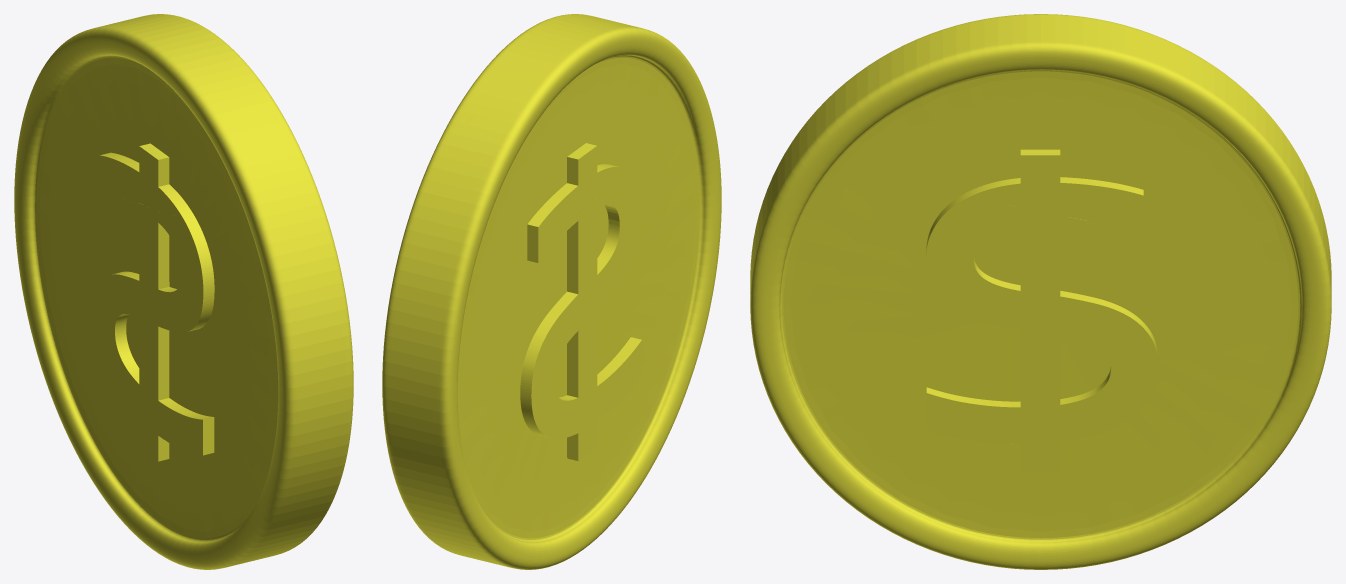
File: Coin_v2.fbx
3 views of the same model, side by side, from view 1: azimuth 30°, elevation 25°; view 2: azimuth 150°, elevation 25°; view 3: azimuth 270°, elevation 25° (orthographic). The views are drawn at different scales.
Parts seen in each view (by area): view 1: Cylinder, Text.001; view 2: Cylinder, Text.001; view 3: Cylinder, Text.001.
Boxes of the visible parts, x1,y1,x2,y2 form: Cylinder: (14,14,353,569); Text.001: (92,143,214,461); Cylinder: (382,14,721,569); Text.001: (520,143,642,460); Cylinder: (750,14,1331,569); Text.001: (926,149,1158,471).
Bounding box in the file's own units: 29.32 × 199 × 199.
